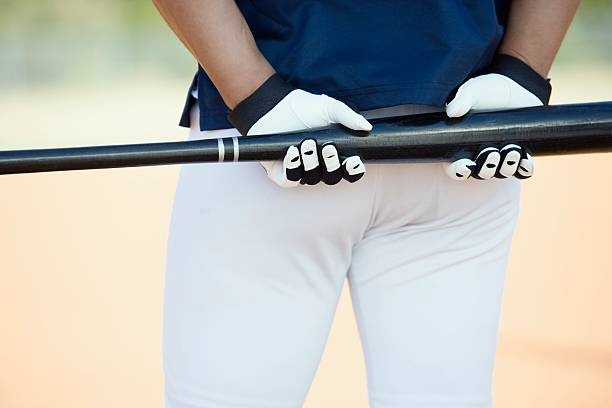bita: (1, 103, 611, 180)
